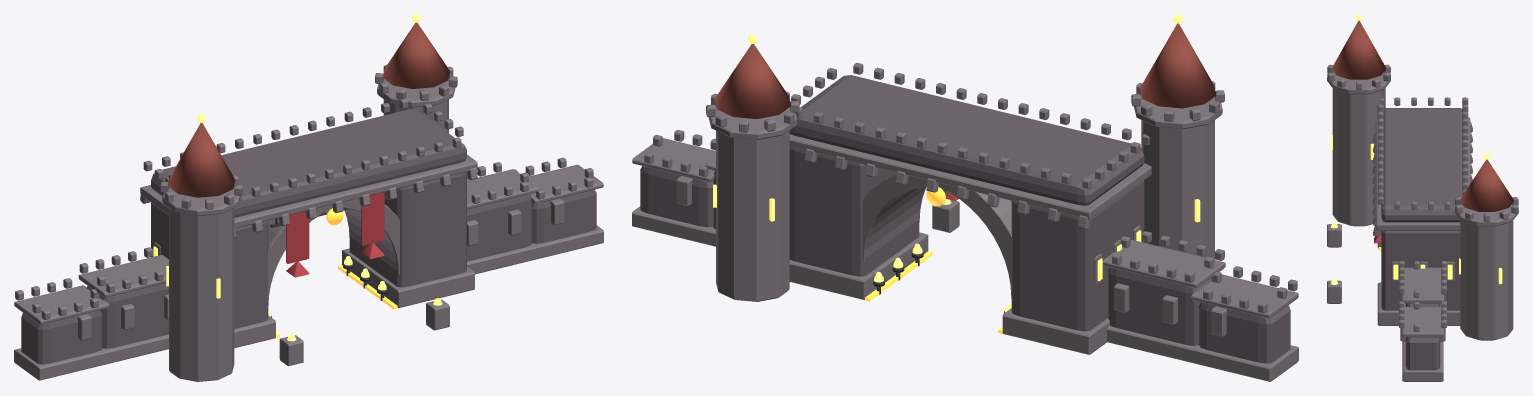
Rendered from castle_r43_backup.glb.
The picture shows the model from 3 angles, left to right: view 1: azimuth 30°, elevation 25°; view 2: azimuth 150°, elevation 25°; view 3: azimuth 270°, elevation 25°; orthographic projection. The views are drawn at different scales.
Parts seen in each view (by area): view 1: C_Stone, C_WallPaint, C_RoofPaint, C_Portrait, C_GhostWindow; view 2: C_Stone, C_WallPaint, C_RoofPaint, C_GhostWindow, C_WindowGlow; view 3: C_Stone, C_WallPaint, C_RoofPaint, C_WindowGlow.
Part boxes in pixels (x1,y1,x2,y2): C_Stone: (14,64,603,381); C_WallPaint: (21,109,596,364); C_RoofPaint: (167,22,450,197); C_Portrait: (286,192,384,277); C_GhostWindow: (272,208,400,339); C_Stone: (632,62,1298,381); C_WallPaint: (640,75,1290,363); C_RoofPaint: (714,23,1216,118); C_GhostWindow: (861,187,1007,335); C_WindowGlow: (713,184,1200,281); C_Stone: (1327,64,1518,381); C_WallPaint: (1381,108,1462,370); C_RoofPaint: (1331,20,1514,211); C_WindowGlow: (1331,134,1502,284).
Size of the model in its own units: 105 by 45.2 by 39.
